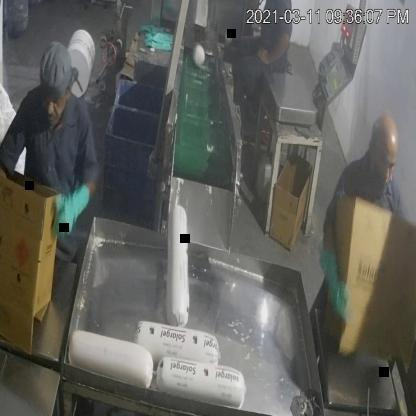glove: (47, 169, 94, 250), (316, 228, 354, 326)
no_glove: (257, 29, 294, 75)
